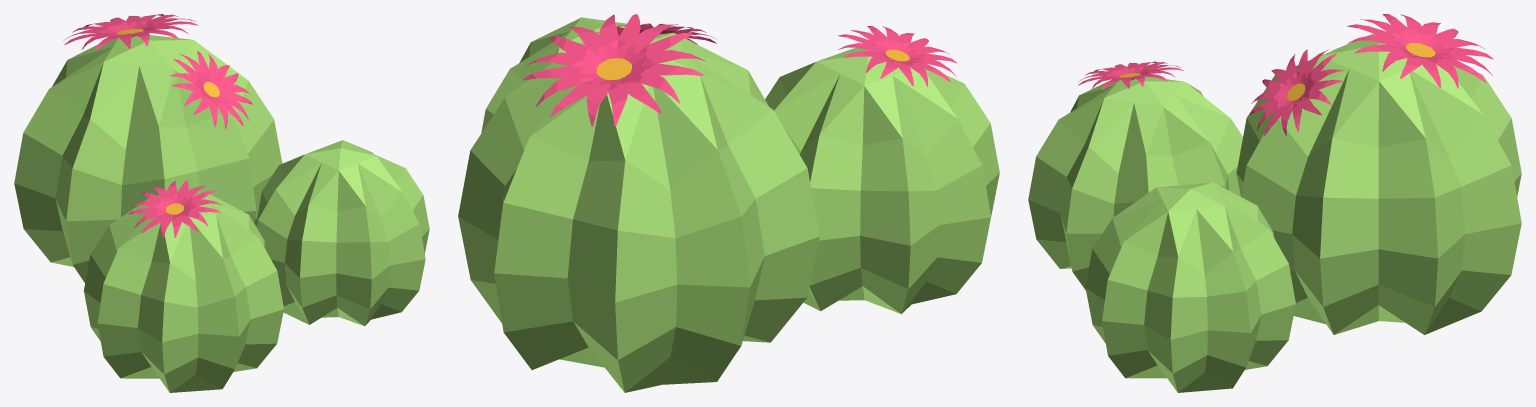
Rendered from Cactus.fbx.
The picture shows the model from 3 angles, left to right: view 1: azimuth 30°, elevation 25°; view 2: azimuth 150°, elevation 25°; view 3: azimuth 270°, elevation 25°; orthographic projection. The views are drawn at different scales.
Parts seen in each view (by area): view 1: Cube, Cube.002, Cube.001, Circle.002, Circle.001, Circle; view 2: Cube, Cube.002, Circle, Circle.001, Cube.001, Circle.002; view 3: Cube, Cube.001, Cube.002, Circle, Circle.002, Circle.001.
Boxes of the visible parts, x1,y1,x2,y2 form: Cube: (14, 35, 282, 283); Cube.002: (84, 192, 283, 392); Cube.001: (256, 140, 429, 326); Circle.002: (170, 51, 252, 129); Circle.001: (128, 180, 221, 238); Circle: (63, 14, 198, 50); Cube: (458, 32, 819, 392); Cube.002: (765, 47, 999, 314); Circle: (523, 14, 705, 126); Circle.001: (838, 26, 956, 86); Cube.001: (481, 17, 626, 132); Circle.002: (597, 23, 717, 44); Cube: (1236, 33, 1521, 334); Cube.001: (1085, 182, 1295, 392); Cube.002: (1028, 76, 1242, 290); Circle: (1347, 14, 1493, 88); Circle.002: (1249, 49, 1343, 135); Circle.001: (1078, 61, 1183, 89).
Size of the model in its own units: 278 by 190 by 302.
